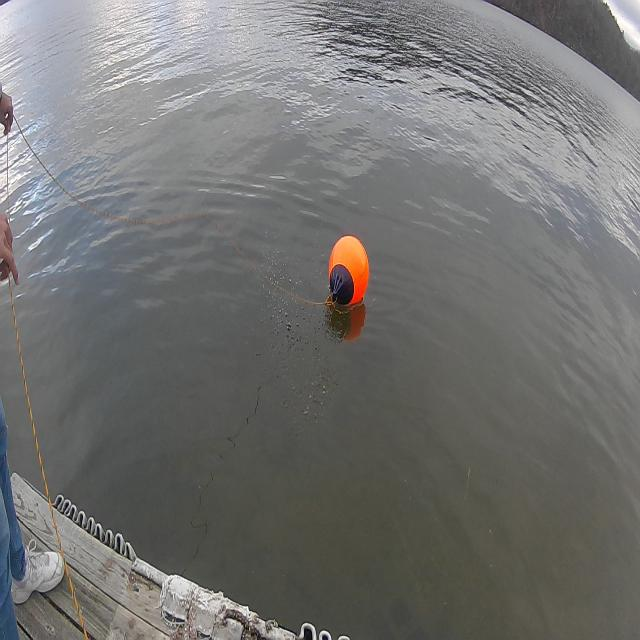Buoy: (326, 225, 371, 318)
